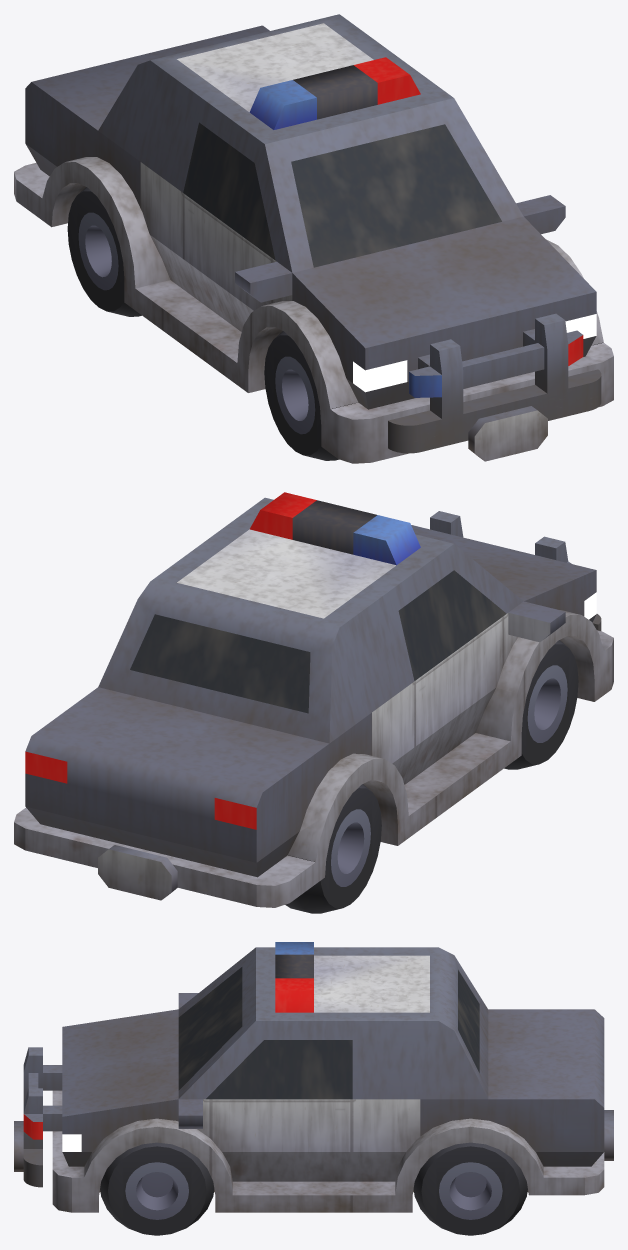
File: police-L3.glb
3 views of the same model, one above another, from view 1: azimuth 30°, elevation 25°; view 2: azimuth 150°, elevation 25°; view 3: azimuth 270°, elevation 25° (orthographic). The views are drawn at different scales.
Visible parts, largest first — view 1: body, grill, wheel-front-right, wheel-back-right; view 2: body, wheel-back-right, wheel-front-right, grill; view 3: body, wheel-back-left, wheel-front-left, grill.
Part boxes in pixels (x1,y1,x2,y2): body: [14, 14, 613, 463]; grill: [388, 313, 601, 461]; wheel-front-right: [264, 331, 339, 460]; wheel-back-right: [67, 187, 141, 316]; body: [14, 492, 613, 907]; wheel-back-right: [285, 784, 381, 913]; wheel-front-right: [504, 640, 578, 769]; grill: [430, 511, 601, 630]; body: [52, 942, 613, 1212]; wheel-back-left: [413, 1142, 527, 1235]; wheel-front-left: [100, 1142, 214, 1235]; grill: [14, 1047, 62, 1187].
Bounding box in the file's own units: 1.5 × 1.3 × 3.1.
6 materials, 6 textured.
